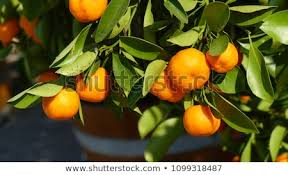orange: (167, 48, 209, 92), (141, 66, 183, 105), (41, 84, 79, 118), (184, 103, 222, 136), (205, 38, 239, 72), (76, 67, 109, 101)
